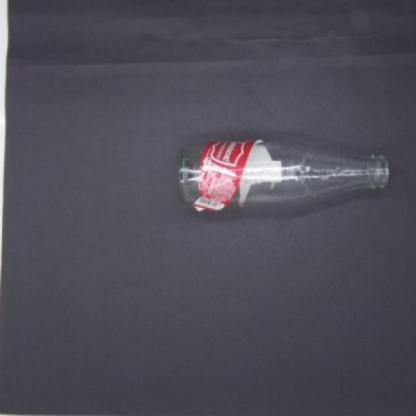Can: (179, 142, 389, 209)
